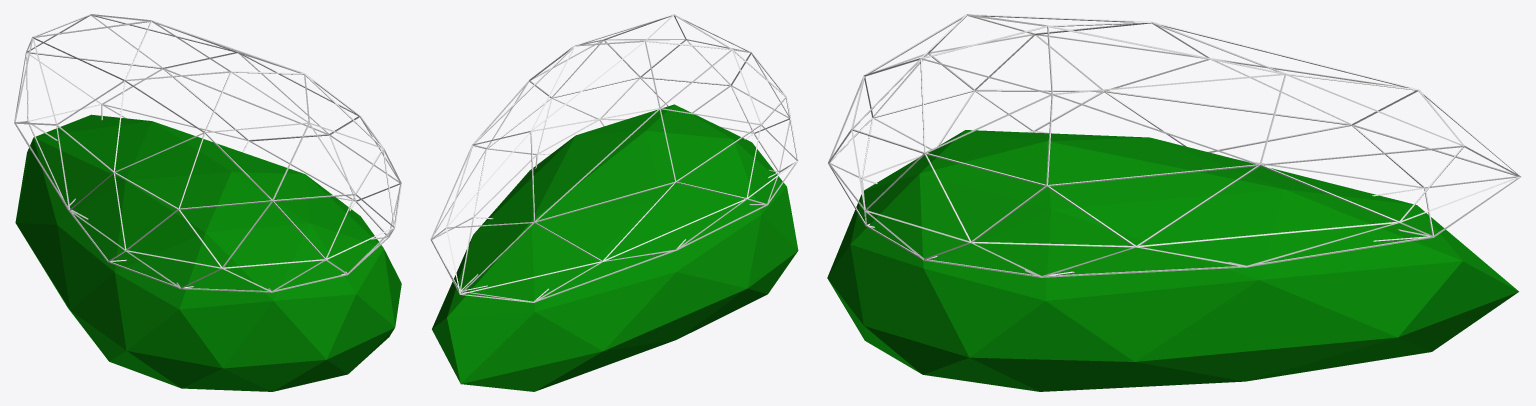
File: bush1.glb
3 renders of one model, left to right at view 1: azimuth 30°, elevation 25°; view 2: azimuth 150°, elevation 25°; view 3: azimuth 270°, elevation 25°, orthographic. The views are drawn at different scales.
Visible parts, largest first — view 1: Icosphere.001, Icosphere; view 2: Icosphere.001, Icosphere; view 3: Icosphere.001, Icosphere.
Part boxes in pixels (bbox=[...]): Icosphere.001: bbox=[15, 114, 401, 391]; Icosphere: bbox=[14, 14, 401, 292]; Icosphere.001: bbox=[432, 104, 798, 391]; Icosphere: bbox=[430, 14, 798, 302]; Icosphere.001: bbox=[827, 130, 1518, 391]; Icosphere: bbox=[828, 14, 1521, 277].
Bounding box in the file's own units: 0.8519 × 0.7977 × 1.61.
